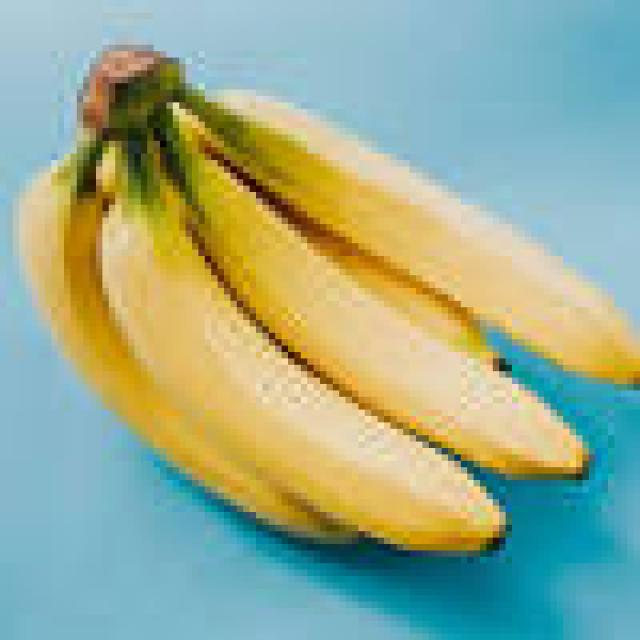Banana: (169, 104, 585, 474), (108, 185, 505, 549), (208, 92, 640, 382)
